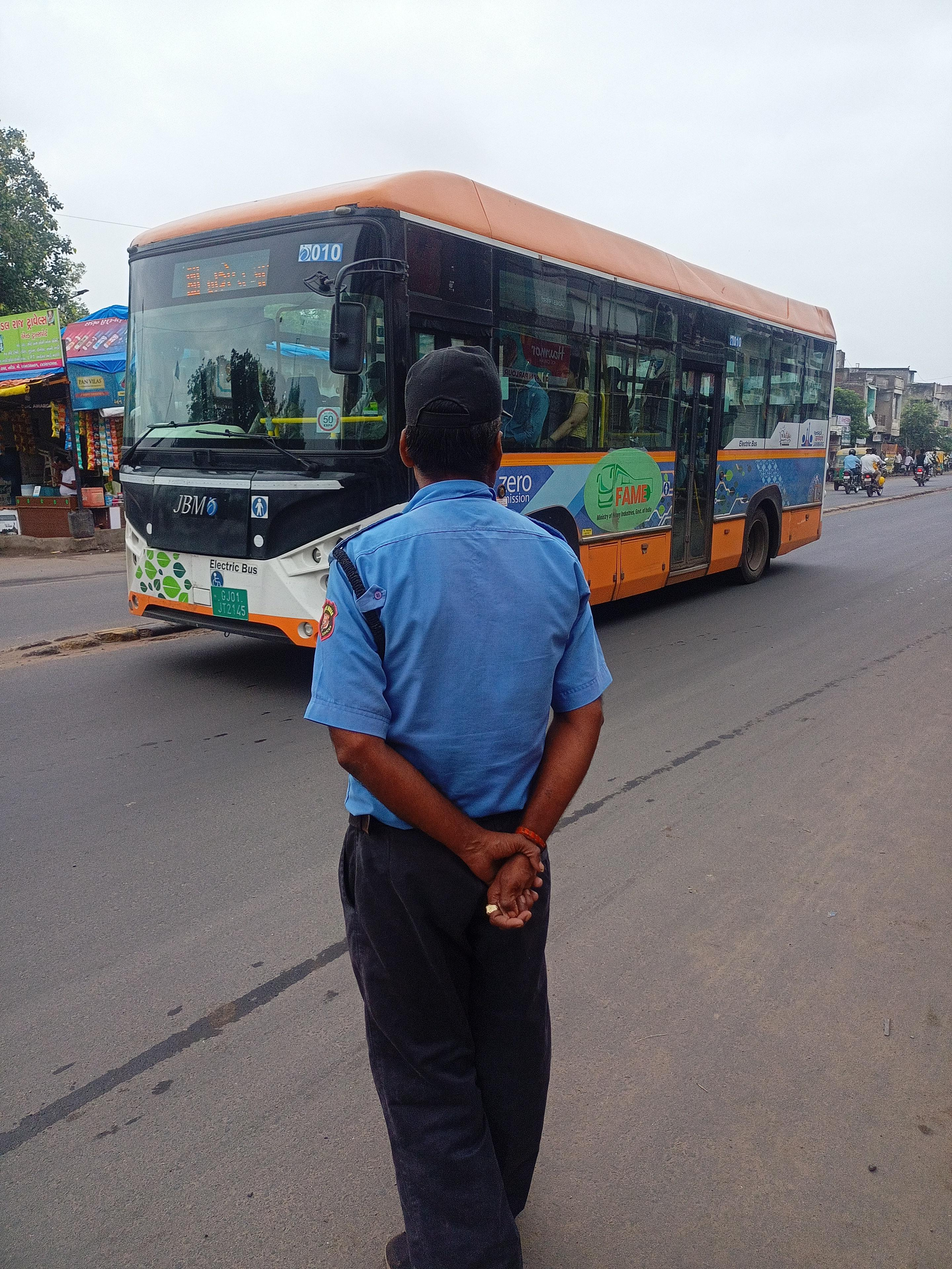green license plate: (210, 586, 256, 625)
